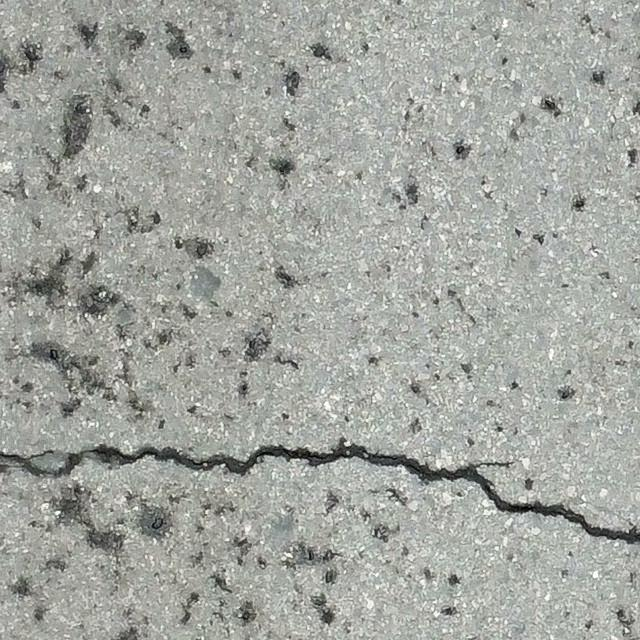TransverseCrack: (1, 441, 640, 546)
